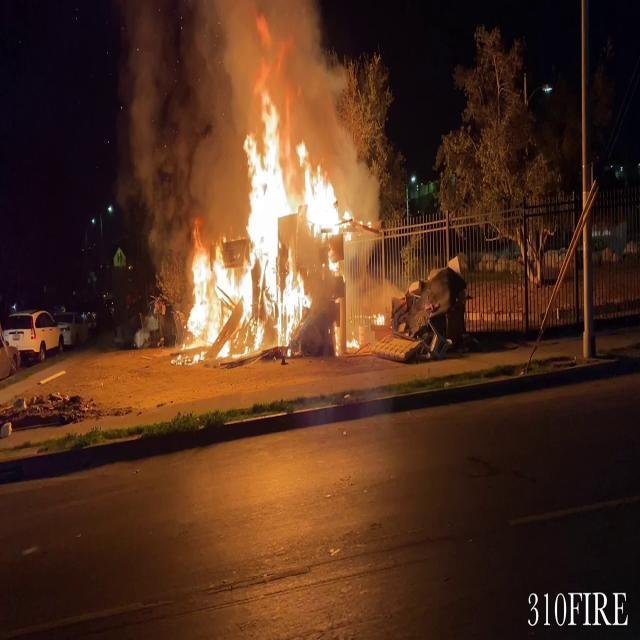Fire: (178, 78, 358, 359)
Smoke: (111, 0, 248, 261)
